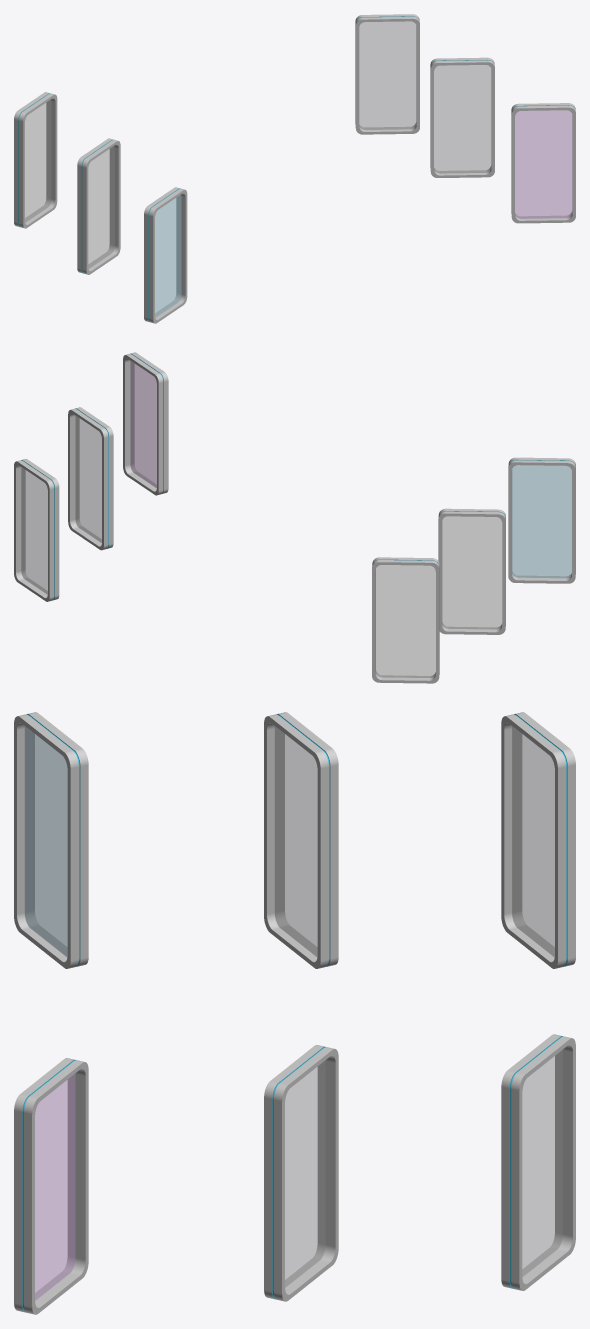
The model's file is 广告牌.fbx.
3 renders of one model, top to bottom at view 1: azimuth 30°, elevation 25°; view 2: azimuth 150°, elevation 25°; view 3: azimuth 270°, elevation 25°, orthographic. The views are drawn at different scales.
Parts seen in each view (by area): view 1: pCube96, pCube94, pCube95, pCube99, pCube98, pCube97; view 2: pCube99, pCube97, pCube98, pCube96, pCube95, pCube94; view 3: pCube94, pCube96, pCube97, pCube98, pCube95, pCube99.
Part boxes in pixels (x1,y1,x2,y2): pCube96: (511,103,575,223); pCube94: (355,14,419,134); pCube95: (430,57,494,177); pCube99: (14,92,57,228); pCube98: (77,138,120,274); pCube97: (144,187,187,323); pCube99: (372,557,439,683); pCube97: (508,457,575,583); pCube98: (438,508,505,634); pCube96: (123,352,168,495); pCube95: (68,407,113,550); pCube94: (14,459,59,601); pCube94: (501,1034,575,1290); pCube96: (14,1058,88,1314); pCube97: (14,712,88,968); pCube98: (264,712,338,968); pCube95: (264,1045,338,1301); pCube99: (501,712,575,968).
Size of the model in its own units: 1004 by 256 by 604.
